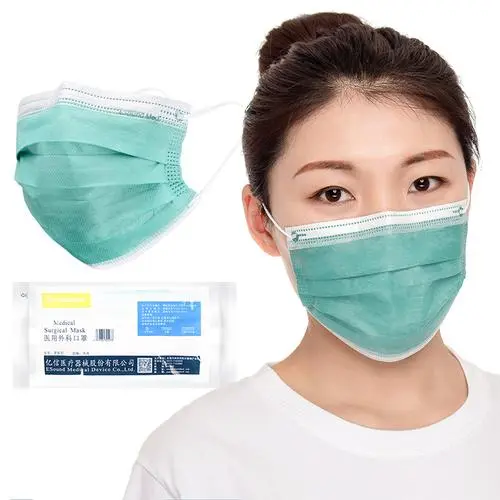withmask: (228, 13, 492, 372)
